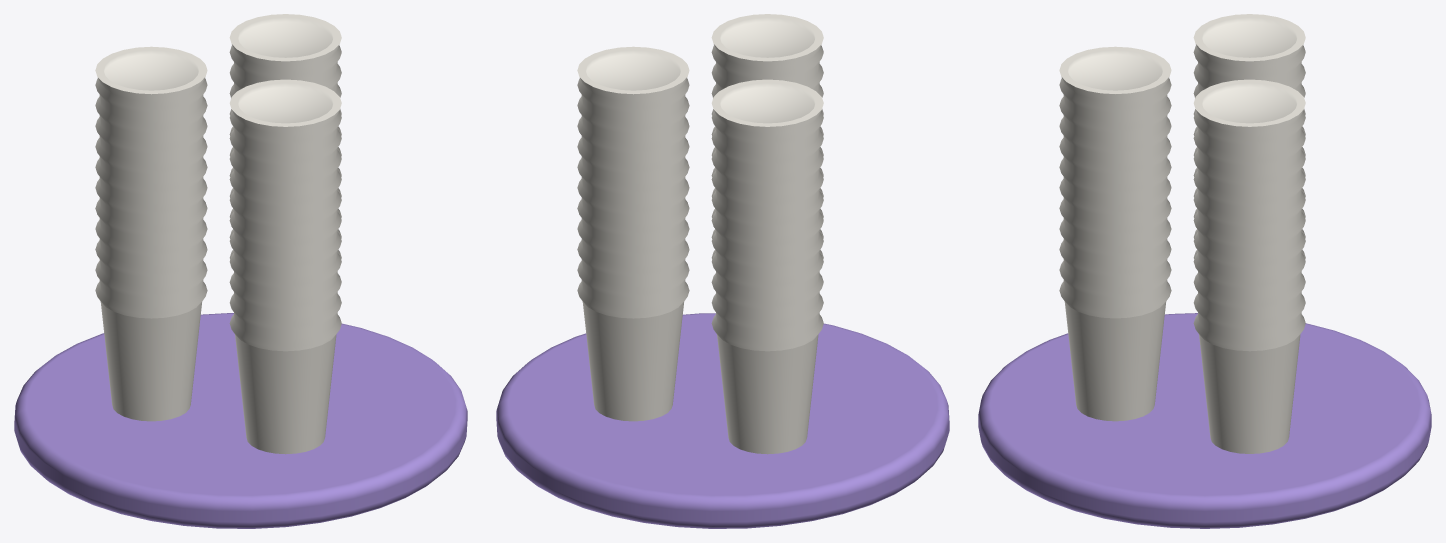
File: SM_CupStack.glb
The picture shows the model from 3 angles, left to right: view 1: azimuth 30°, elevation 25°; view 2: azimuth 150°, elevation 25°; view 3: azimuth 270°, elevation 25°; orthographic projection.
Parts seen in each view (by area): view 1: SM_CupStack; view 2: SM_CupStack; view 3: SM_CupStack.
Boxes of the visible parts, x1=… form: SM_CupStack: x1=14, y1=14, x2=467, y2=528; SM_CupStack: x1=496, y1=14, x2=949, y2=528; SM_CupStack: x1=978, y1=14, x2=1431, y2=528.
Bounding box in the file's own units: 0.38 × 0.339 × 0.38.
1 material, 1 textured.
